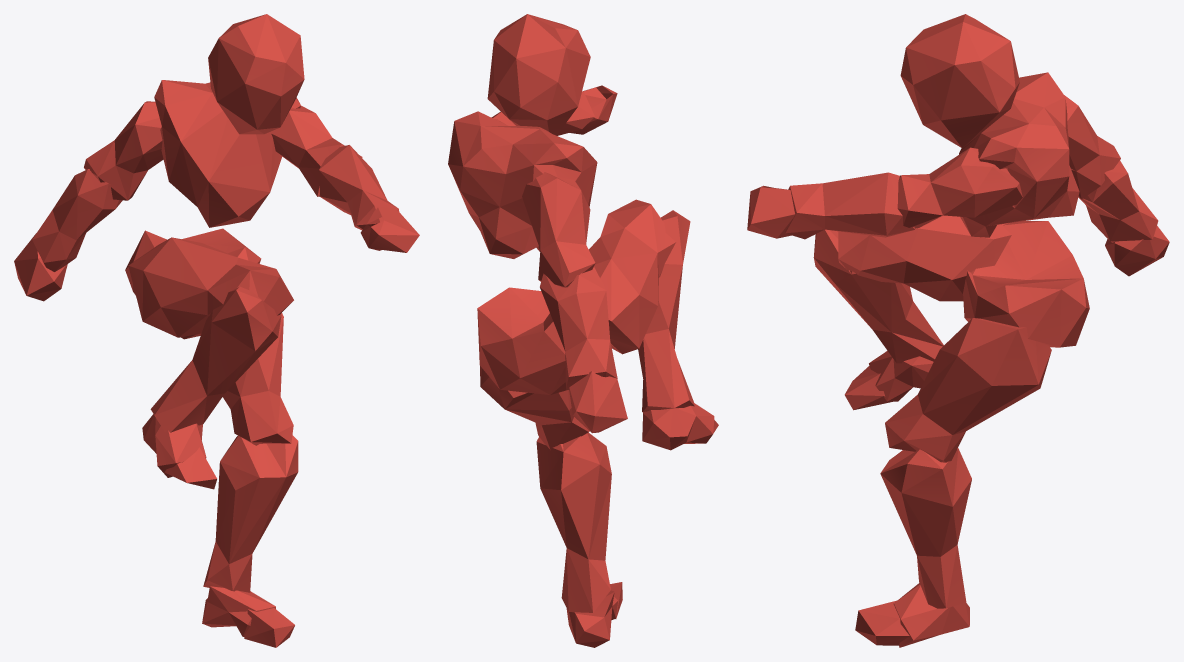
Rendered from 2dancer0163.obj.
3 views of the same model, side by side, from view 1: azimuth 30°, elevation 25°; view 2: azimuth 150°, elevation 25°; view 3: azimuth 270°, elevation 25° (orthographic). The views are drawn at different scales.
Parts seen in each view (by area): view 1: Beta_Surface; view 2: Beta_Surface; view 3: Beta_Surface.
Boxes of the visible parts, x1=… form: Beta_Surface: x1=14, y1=14, x2=419, y2=647; Beta_Surface: x1=448, y1=14, x2=718, y2=647; Beta_Surface: x1=747, y1=14, x2=1169, y2=647.
Bounding box in the file's own units: 0.7355 × 1.75 × 1.05.
